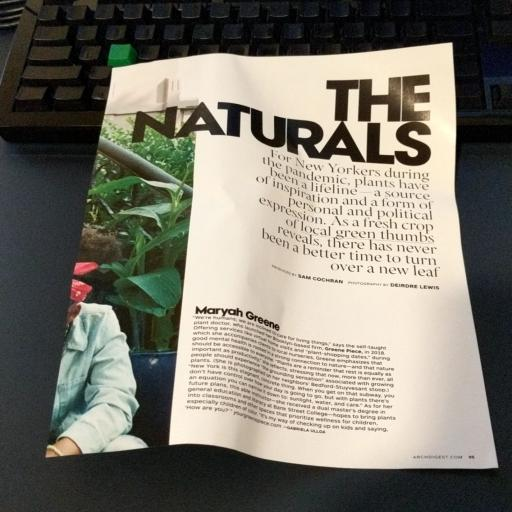paper: (68, 34, 512, 485)
